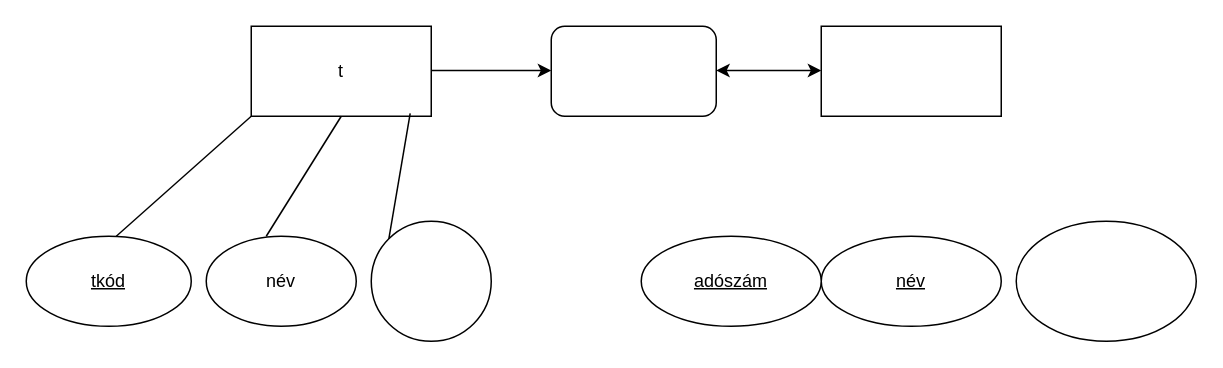
This 1223x368 diagram has some shape labels left out. The shapes that lost their labels are listed below. From the top down, each one's centre as x and y in pixels, then its label:
At (910,70): "gy".
At (430,280): "ear".
At (1105,280): "telephely".
